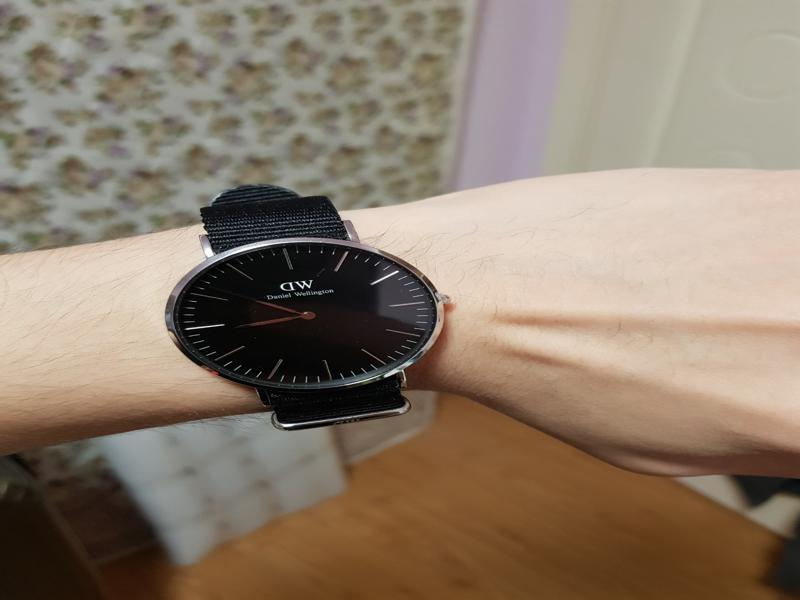watch: (163, 182, 456, 432)
